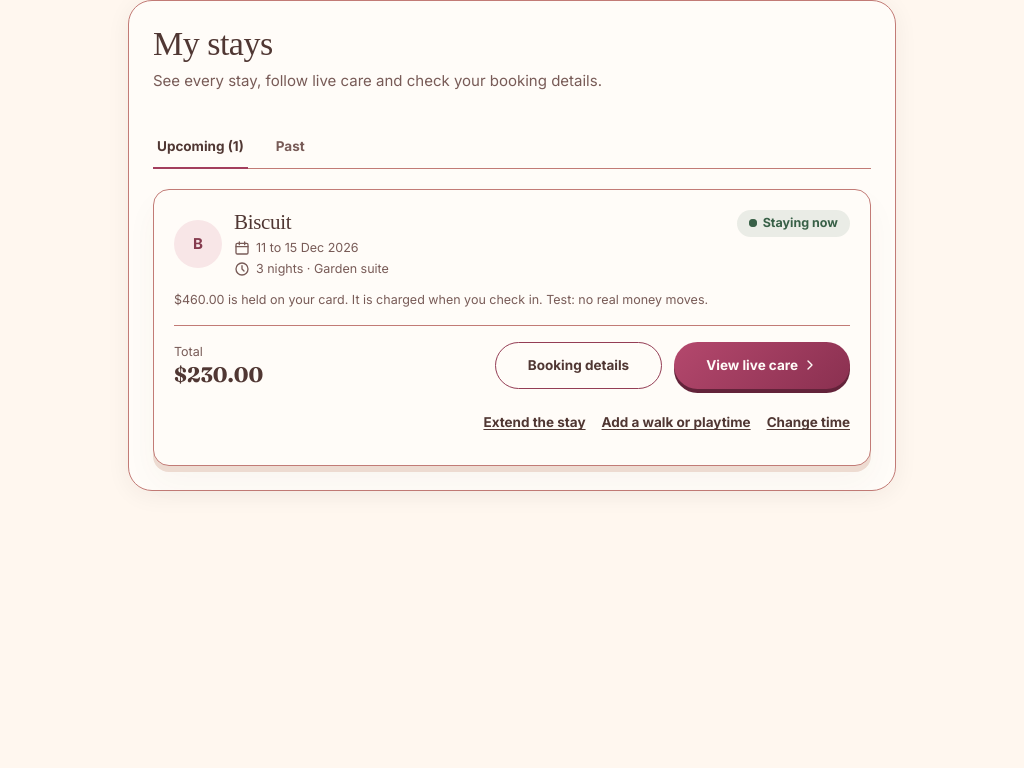
Test case: changes while the pet is staying › charges nothing and shows the new price when an add-on moved while the dialog was open
What coordinates should you click on to do the following:
click the button "Add a walk or playtime"
I would click on:
 (676, 423)
Its box is [602,401,751,445].
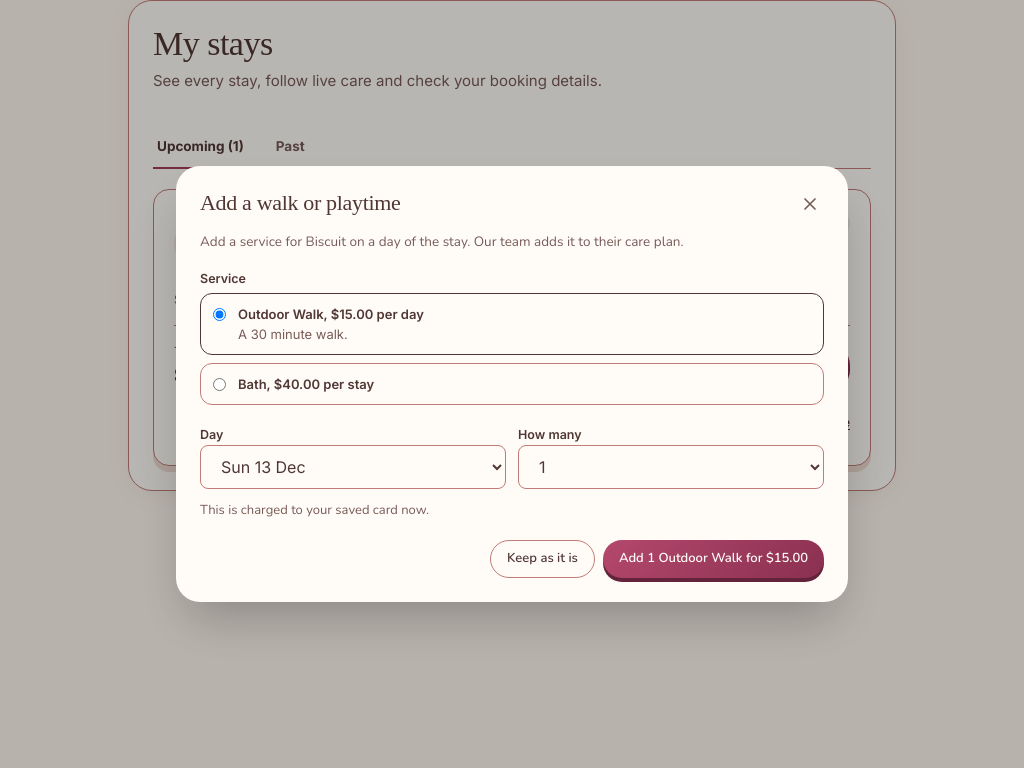
Expected: the radio button labelled "Outdoor Walk, $15.00 per day A 30 minute walk." is shown, [213,308,226,321]
What coordinates should you click on to do the following:
click the button "Add 1 Outdoor Walk for $15.00"
I would click on:
 (713, 559)
Its box is [603,540,824,578].
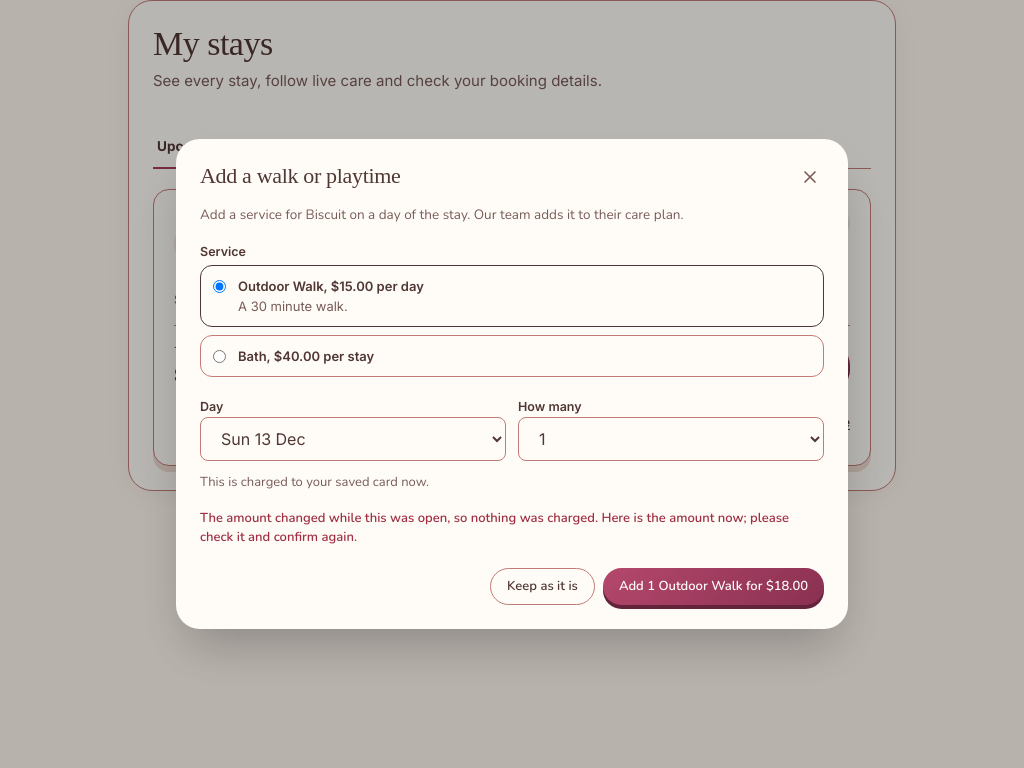
Expected: the button "Add 1 Outdoor Walk for $18.00" is enabled, [603,568,824,605]
Expected: the message shows "The amount changed while this was open, so nothing was charged.", [200,509,789,546]
